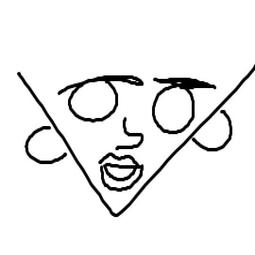ear: (20, 124, 69, 169), (195, 108, 239, 154)
empty_eye: (66, 75, 120, 124), (151, 81, 197, 137)
nose: (115, 117, 145, 151)
open_mouth: (98, 151, 144, 195)
